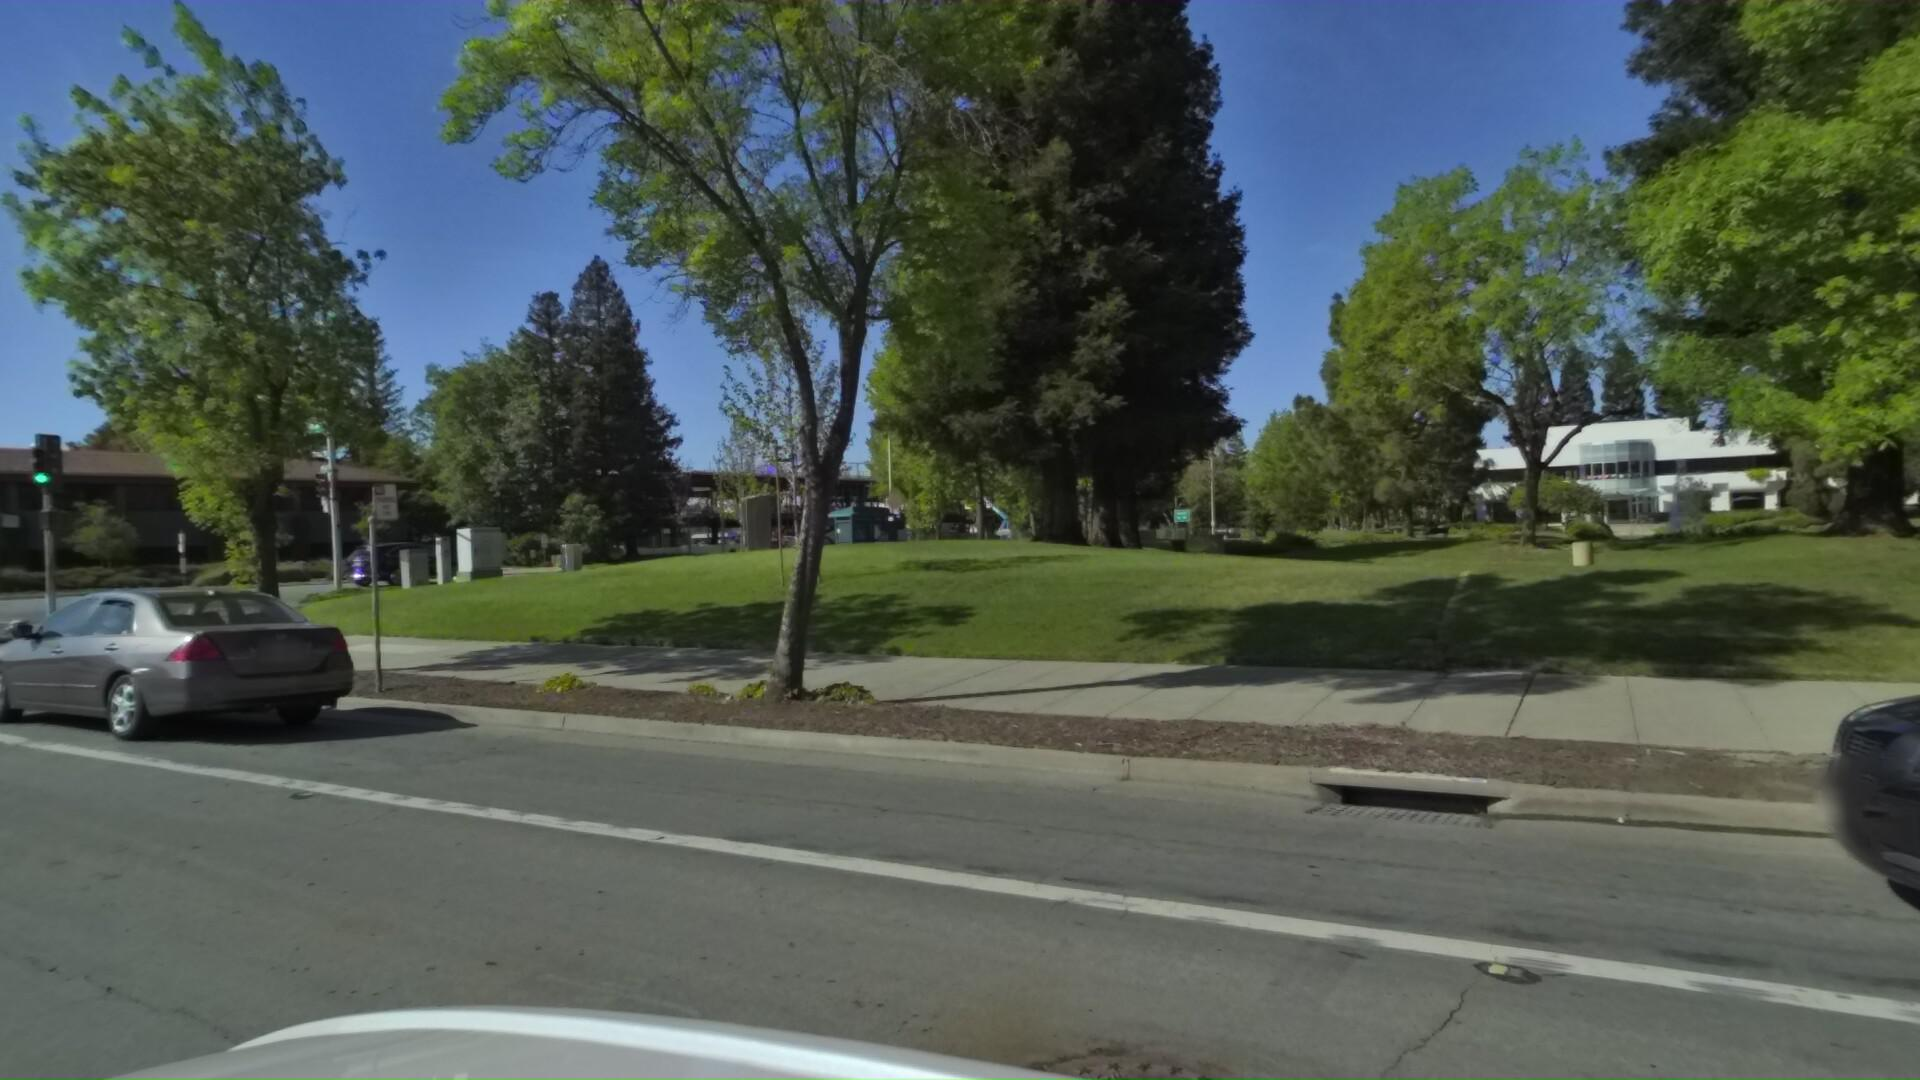car: (1751, 452, 1920, 1080), (0, 556, 376, 749), (344, 531, 480, 583), (783, 522, 852, 555)
